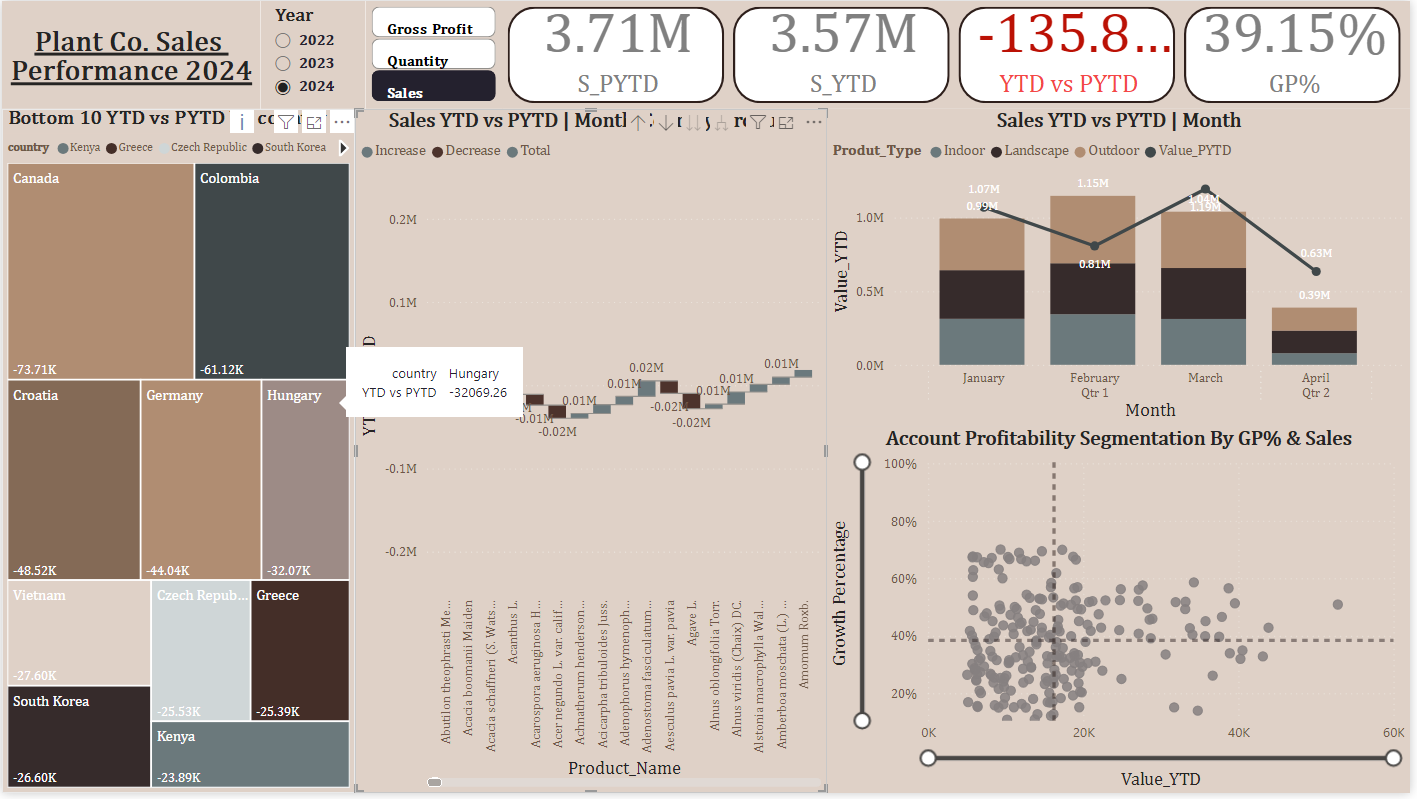

What the dashboard file says about the page in this screenshot:
{"tool":"powerbi","page":{"name":"Performance Report","canvas":[1280,720],"ordinal":0},"visuals":[{"type":"cardVisual","fields":{"Data":["_Measures.S_PYTD","_Measures.S_YTD","_Measures.YTD vs PYTD","_Measures.GP%"]},"box":[454.2,0,825.8,98.2],"z":0},{"type":"advancedSlicerVisual","fields":{"Values":["Slc_Values.Values"]},"box":[330.7,0,123.5,98.2],"z":1000},{"type":"slicer","fields":{"Values":["Dim_Date.Date.Variation.Date Hierarchy.Year"]},"box":[235.4,0,95.3,98.2],"z":2000},{"type":"treemap","title":"Bottom 10 YTD vs PYTD by country","fields":{"Values":["_Measures.YTD vs PYTD"],"Group":["Dim_Account.country"]},"box":[0,98.2,321,621.5],"z":3000},{"type":"waterfallChart","fields":{"Category":["Dim_Date.Date.Variation.Date Hierarchy.Month","Dim_Account.country","Dim_Product.Produt_Type","Dim_Product.Product_Name"],"Y":["_Measures.YTD vs PYTD"]},"box":[321,98.2,428.9,621.5],"z":4000},{"type":"lineStackedColumnComboChart","fields":{"Y":["_Measures.S_YTD"],"Category":["Dim_Date.Date.Variation.Date Hierarchy.Quarter","Dim_Date.Date.Variation.Date Hierarchy.Month"],"Y2":["_Measures.S_PYTD"],"Series":["Dim_Product.Produt_Type"]},"box":[749.9,98.3,530.3,288.9],"z":5000},{"type":"scatterChart","fields":{"Y":["_Measures.GP%"],"X":["_Measures.S_YTD"],"Category":["Dim_Account.Account"]},"box":[750,387,530,333],"z":6000},{"type":"card","fields":{"Values":["_Measures.Report title"]},"box":[0,0,235.4,98.2],"z":6001}]}

Visuals, with their boxes in screenshot pixels (x1, y1, x2, y2), scaled from the page's 1280x720 canvas onto the 1417x799 screenshot:
cardVisual - _Measures.S_PYTD x _Measures.S_YTD: x1=503, y1=0, x2=1416, y2=109
advancedSlicerVisual - Slc_Values.Values: x1=366, y1=0, x2=503, y2=109
slicer - Dim_Date.Date.Variation.Date Hierarchy.Year: x1=261, y1=0, x2=366, y2=109
"Bottom 10 YTD vs PYTD by country" treemap: x1=0, y1=109, x2=355, y2=798
waterfallChart - Dim_Date.Date.Variation.Date Hierarchy.Month x Dim_Account.country: x1=355, y1=109, x2=830, y2=798
lineStackedColumnComboChart - _Measures.S_YTD x Dim_Date.Date.Variation.Date Hierarchy.Quarter: x1=830, y1=109, x2=1416, y2=430
scatterChart - _Measures.GP% x _Measures.S_YTD: x1=830, y1=429, x2=1416, y2=798
card - _Measures.Report title: x1=0, y1=0, x2=261, y2=109
